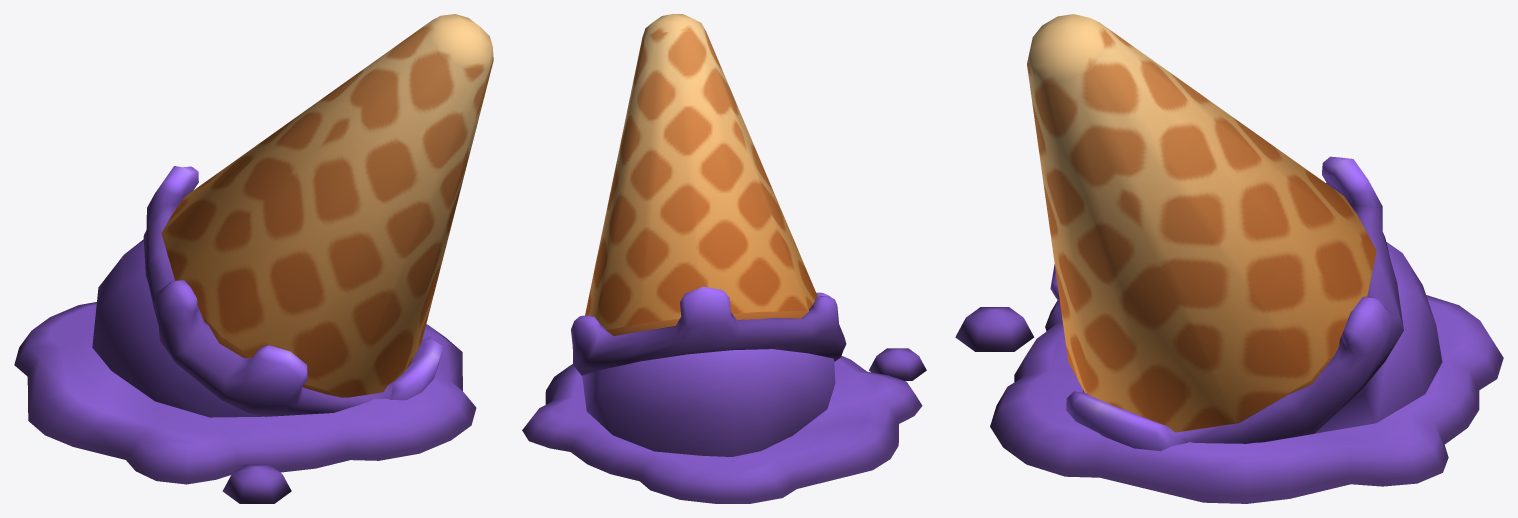
The model's file is m_SpilledIceCream10.fbx.
The picture shows the model from 3 angles, left to right: view 1: azimuth 30°, elevation 25°; view 2: azimuth 150°, elevation 25°; view 3: azimuth 270°, elevation 25°; orthographic projection. The views are drawn at different scales.
Parts seen in each view (by area): view 1: m_SpilledIceCream10; view 2: m_SpilledIceCream10; view 3: m_SpilledIceCream10.
Part boxes in pixels (left/top/right/bottom): m_SpilledIceCream10: left=14, top=14, right=493, bottom=503; m_SpilledIceCream10: left=522, top=14, right=926, bottom=503; m_SpilledIceCream10: left=955, top=14, right=1503, bottom=503.
Bounding box in the file's own units: 12.21 × 11.36 × 12.68.
